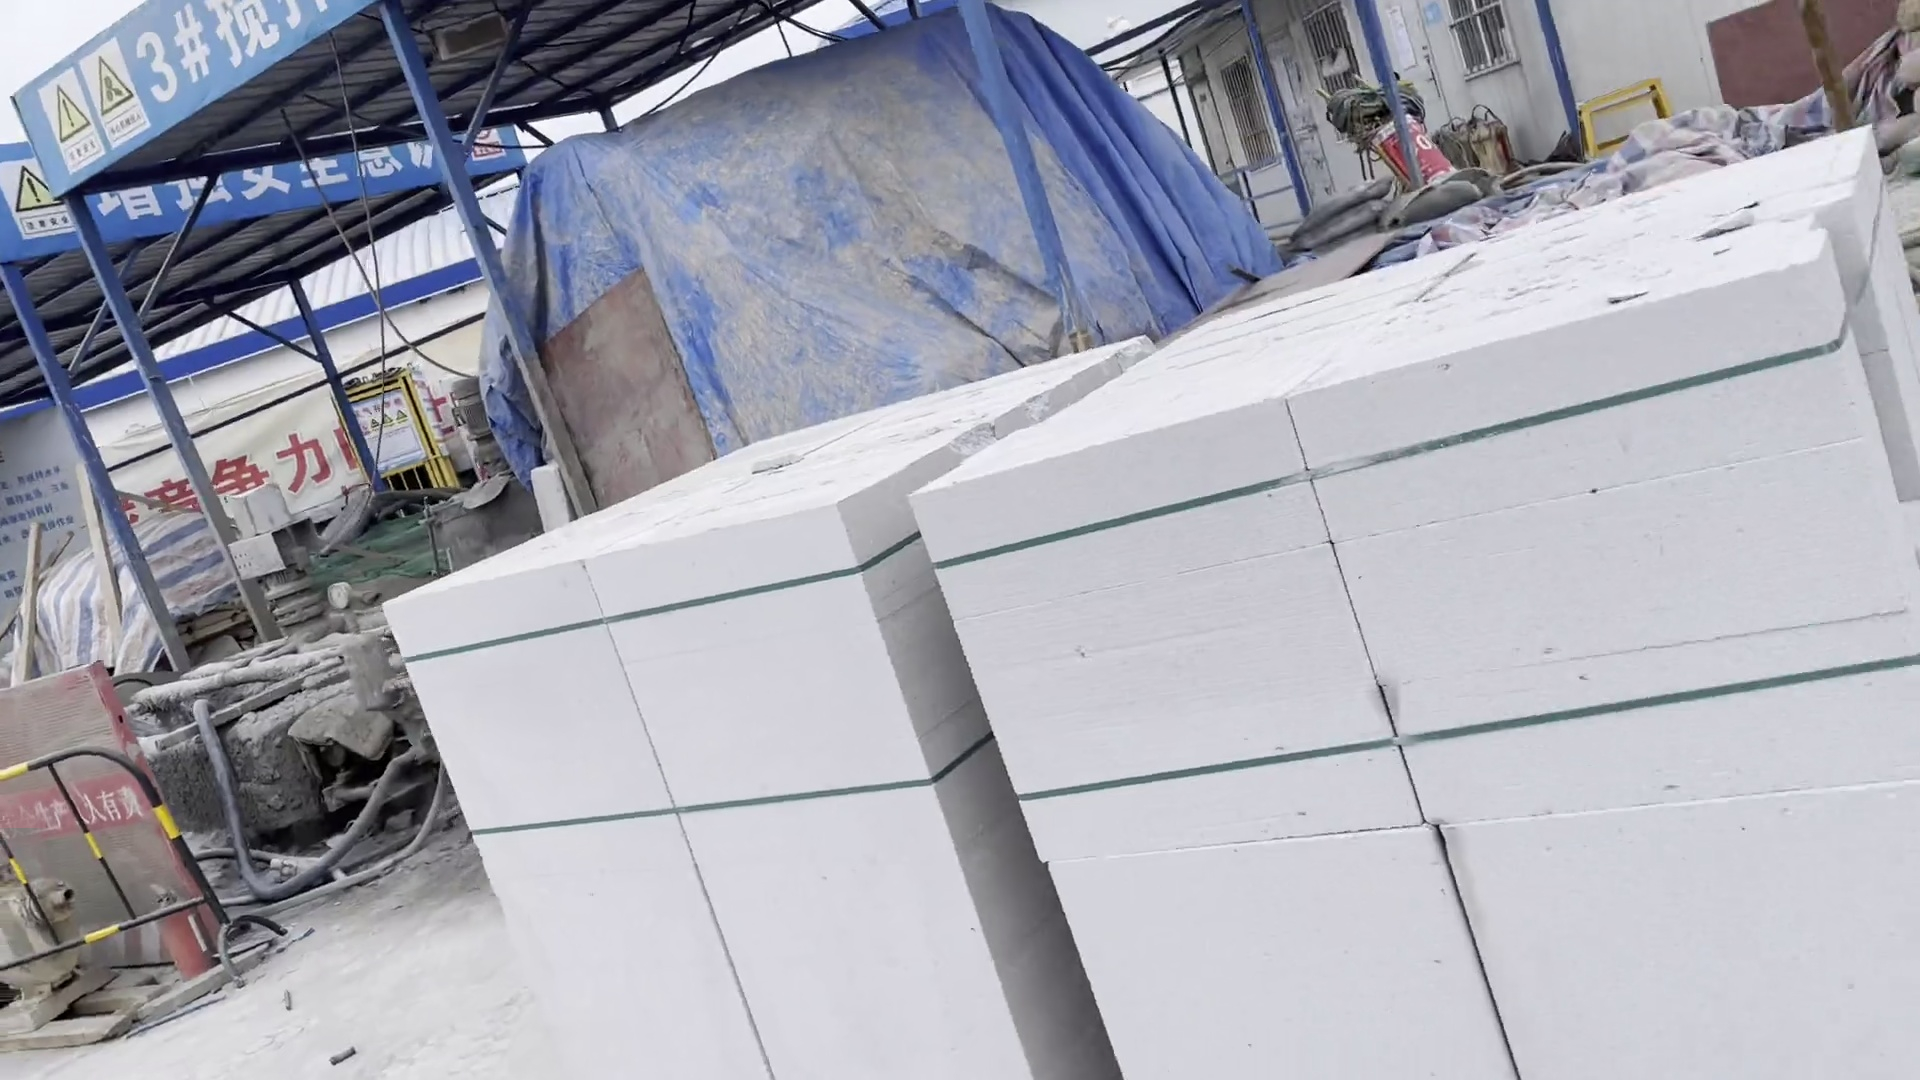brick: (384, 132, 1920, 1077)
